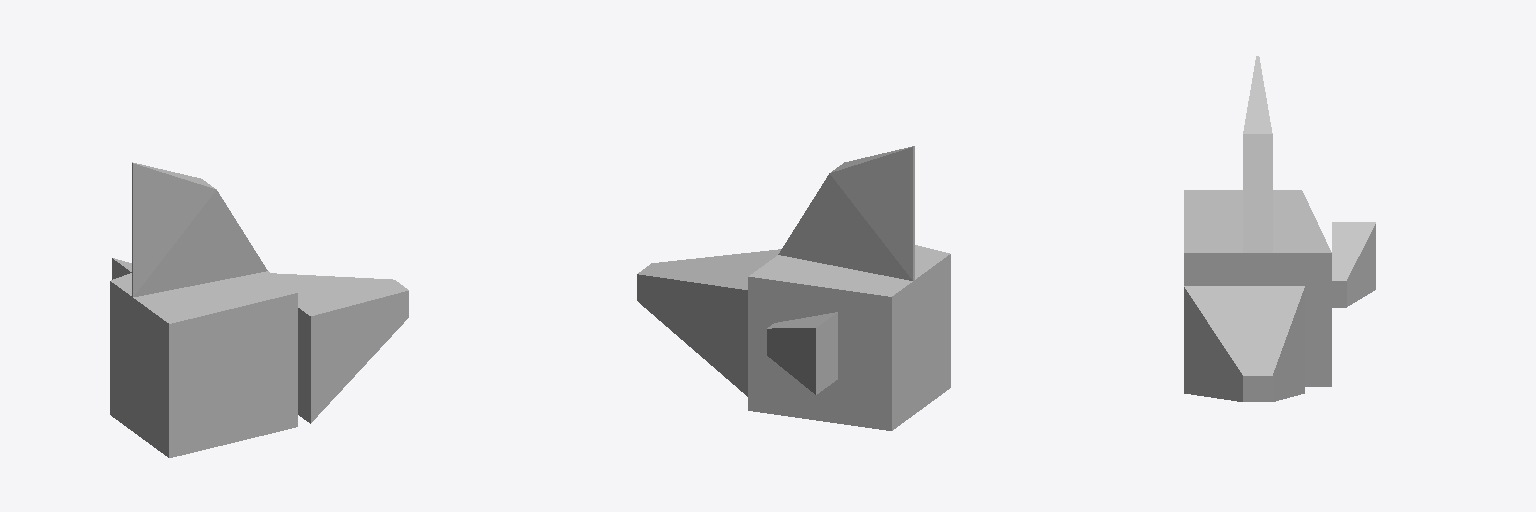
File: thing1+x-z.obj
3 renders of one model, left to right at view 1: azimuth 30°, elevation 25°; view 2: azimuth 150°, elevation 25°; view 3: azimuth 270°, elevation 25°, orthographic.
Visible parts, largest first — view 1: Cube; view 2: Cube; view 3: Cube.
Boxes of the visible parts, <box> form: Cube: <box>110,162,408,457</box>; Cube: <box>637,146,950,430</box>; Cube: <box>1184,56,1375,401</box>.
Size of the model in its own units: 1.05 by 1 by 0.65.